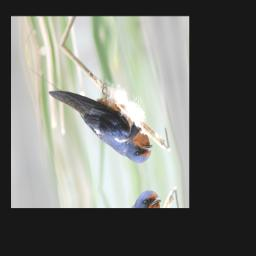Swallow: (48, 65, 156, 186)
